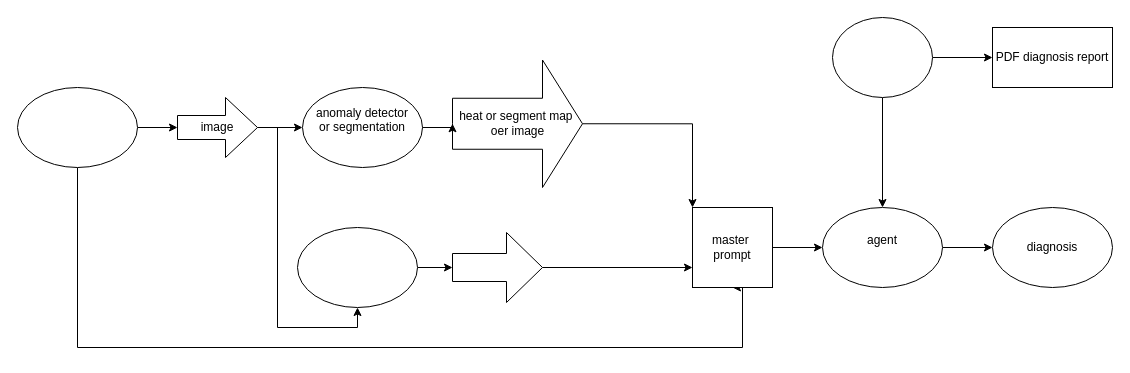
The diagram is 1130 pixels wide and 373 high, and some of its shapes have lost their labels. The centre of each missing label's shape, as x and y in pixels:
"input image + prompt" goes at point 77,127.
"medseglip" goes at point 357,267.
"pdf maker tool" goes at point 882,57.
"top_k=5" goes at point 497,267.
